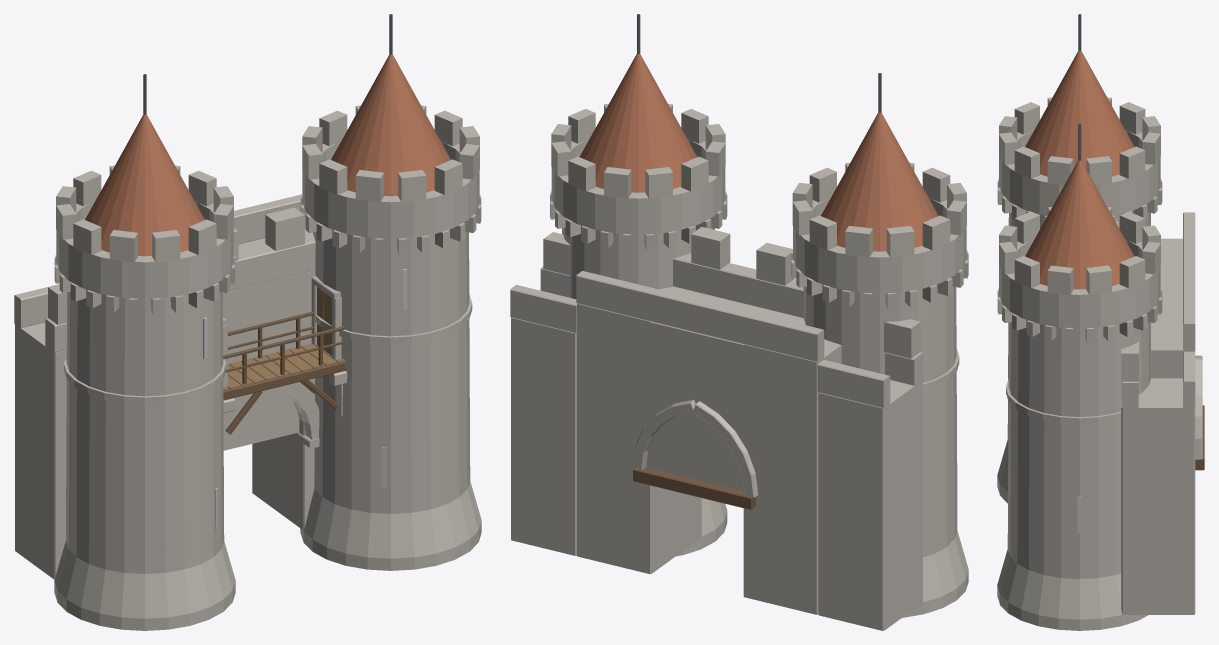
The model's file is gatehouse.glb.
3 renders of one model, left to right at view 1: azimuth 30°, elevation 25°; view 2: azimuth 150°, elevation 25°; view 3: azimuth 270°, elevation 25°, orthographic. The views are drawn at different scales.
Parts seen in each view (by area): view 1: gatehouse.stonewall, gatehouse.rooftile, gatehouse.oak, gatehouse.planks, gatehouse.soot; view 2: gatehouse.stonewall, gatehouse.rooftile, gatehouse.oak; view 3: gatehouse.stonewall, gatehouse.rooftile.
Boxes of the visible parts, x1,y1,x2,y2 form: gatehouse.stonewall: [14, 105, 481, 630]; gatehouse.rooftile: [85, 54, 450, 256]; gatehouse.oak: [223, 311, 345, 434]; gatehouse.planks: [223, 287, 345, 391]; gatehouse.soot: [203, 269, 407, 529]; gatehouse.stonewall: [510, 104, 968, 630]; gatehouse.rooftile: [580, 54, 938, 251]; gatehouse.oak: [633, 467, 755, 509]; gatehouse.stonewall: [997, 97, 1202, 630]; gatehouse.rooftile: [1025, 51, 1134, 289].
Bounding box in the file's own units: 13.76 × 16.9 × 6.73.
